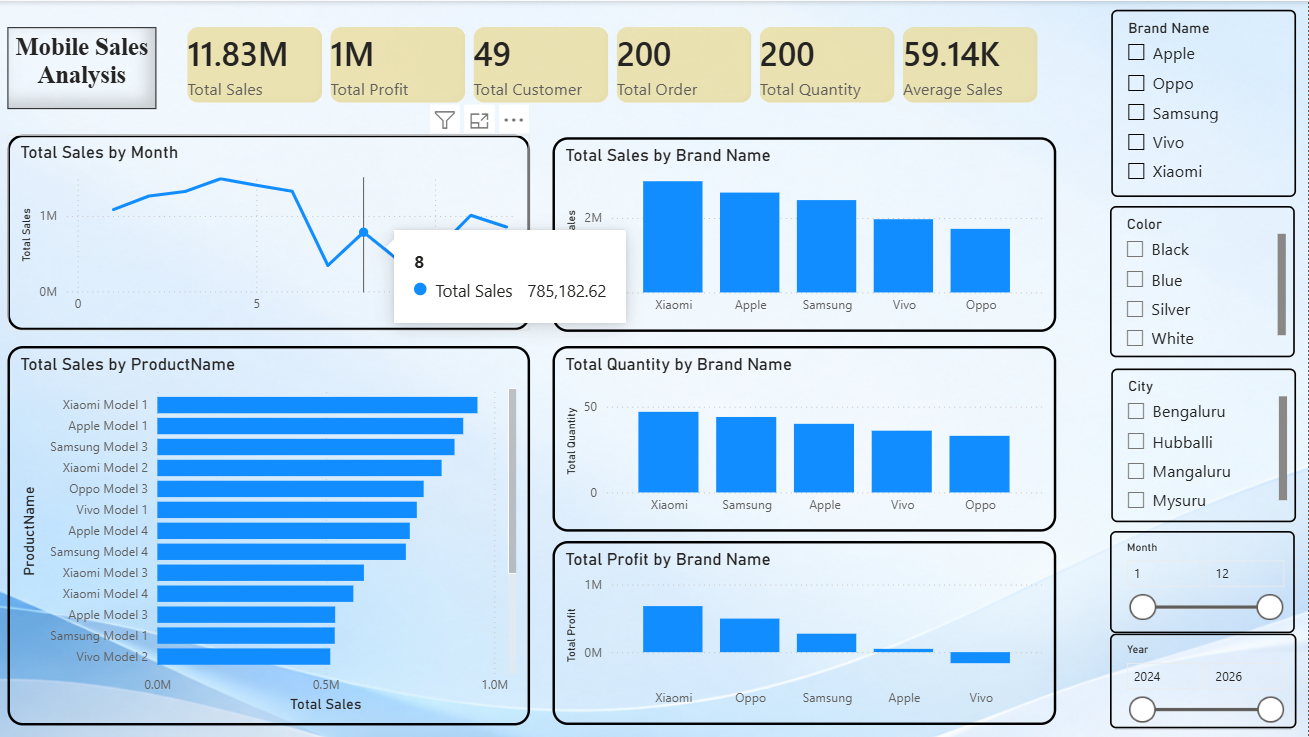

The page's visual inventory and layout, read from the dashboard file:
{"tool":"powerbi","page":{"name":"Page 1","canvas":[1280,720],"ordinal":0},"visuals":[{"type":"cardVisual","fields":{"Data":["FactSales.Total Sales","FactSales.Total Profit","FactSales.Total Customer","FactSales.Total Order","FactSales.Total Quantity","FactSales.Average Sales"]},"box":[165.7,8.6,867.1,108.6],"z":0},{"type":"textbox","box":[7.1,25.7,145.7,80],"z":1000},{"type":"lineChart","fields":{"Y":["FactSales.Total Sales"],"Category":["Dim Calender.Month"]},"box":[7.1,131.4,511.4,191.4],"z":2000},{"type":"clusteredColumnChart","fields":{"Category":["DimBrand.Brand Name"],"Y":["FactSales.Total Sales"]},"box":[540,132.9,492.9,190],"z":3000},{"type":"clusteredBarChart","fields":{"Category":["DimProduct.ProductName"],"Y":["FactSales.Total Sales"]},"box":[7.1,337.1,511.4,371.4],"z":4000},{"type":"clusteredColumnChart","fields":{"Y":["FactSales.Total Quantity"],"Category":["DimBrand.Brand Name"]},"box":[540,337.1,492.9,181.4],"z":5000},{"type":"clusteredColumnChart","fields":{"Y":["FactSales.Total Profit"],"Category":["DimBrand.Brand Name"]},"box":[540,528.6,492.9,180],"z":6000},{"type":"slicer","fields":{"Values":["DimBrand.Brand Name"]},"box":[1087.1,8.6,181,183.4],"z":7000},{"type":"slicer","fields":{"Values":["DimProduct.Color"]},"box":[1085.9,200.5,181,148],"z":8000},{"type":"slicer","fields":{"Values":["DimCustomer.City"]},"box":[1087.1,359.5,181,150.4],"z":9000},{"type":"slicer","fields":{"Values":["Dim Calender.Month"]},"box":[1085.9,518.5,181,100.3],"z":10000},{"type":"slicer","fields":{"Values":["Dim Calender.Year"]},"box":[1085.9,618.8,182.2,92.9],"z":11000}]}

Visuals, with their boxes in screenshot pixels (x1, y1, x2, y2), scaled from the page's 1280x720 canvas onto the 1309x737 screenshot:
cardVisual - FactSales.Total Sales x FactSales.Total Profit: bbox(169, 9, 1056, 120)
textbox: bbox(7, 26, 156, 108)
lineChart - FactSales.Total Sales x Dim Calender.Month: bbox(7, 135, 530, 330)
clusteredColumnChart - DimBrand.Brand Name x FactSales.Total Sales: bbox(552, 136, 1056, 331)
clusteredBarChart - DimProduct.ProductName x FactSales.Total Sales: bbox(7, 345, 530, 725)
clusteredColumnChart - FactSales.Total Quantity x DimBrand.Brand Name: bbox(552, 345, 1056, 531)
clusteredColumnChart - FactSales.Total Profit x DimBrand.Brand Name: bbox(552, 541, 1056, 725)
slicer - DimBrand.Brand Name: bbox(1112, 9, 1297, 197)
slicer - DimProduct.Color: bbox(1111, 205, 1296, 357)
slicer - DimCustomer.City: bbox(1112, 368, 1297, 522)
slicer - Dim Calender.Month: bbox(1111, 531, 1296, 633)
slicer - Dim Calender.Year: bbox(1111, 633, 1297, 729)
